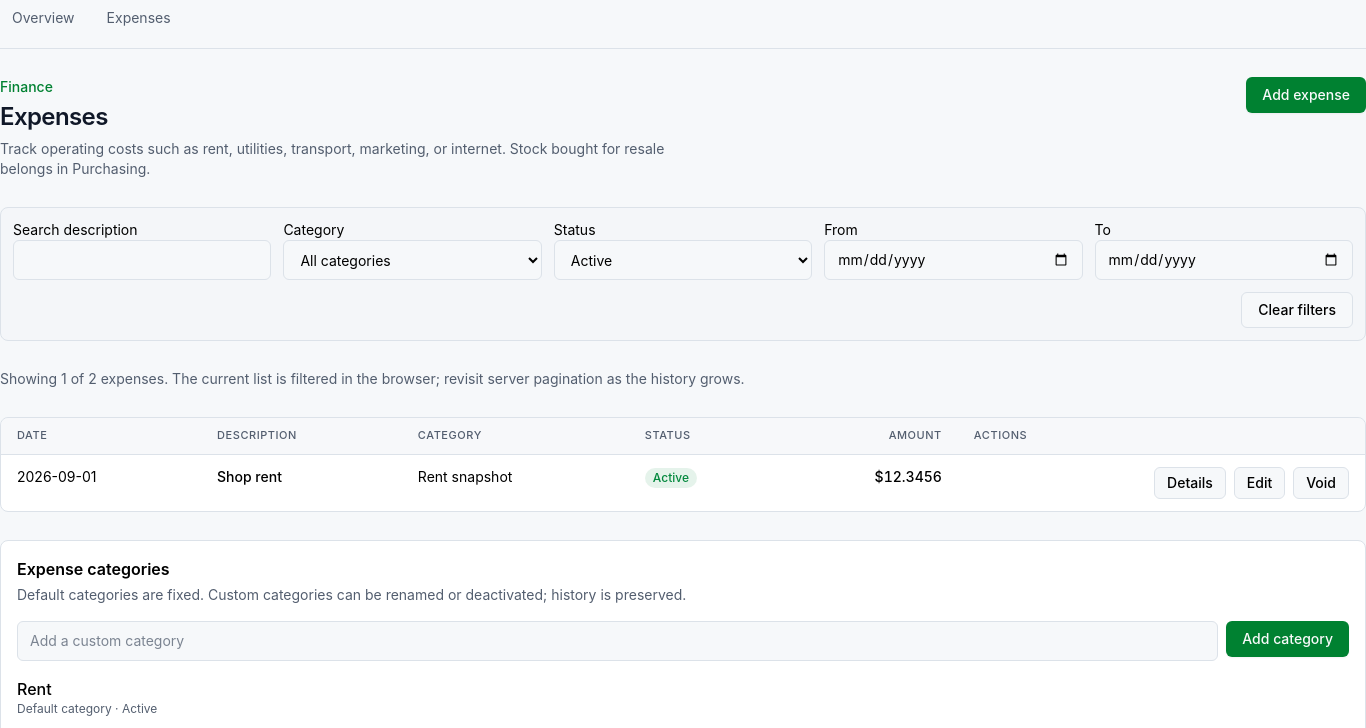
Test: Finance expense management › rejects invalid amount -1 at form validation
This screenshot has width=1366, height=728.
Click the button "Add expense" at (1306,95), box 1246,77 -> 1365,113
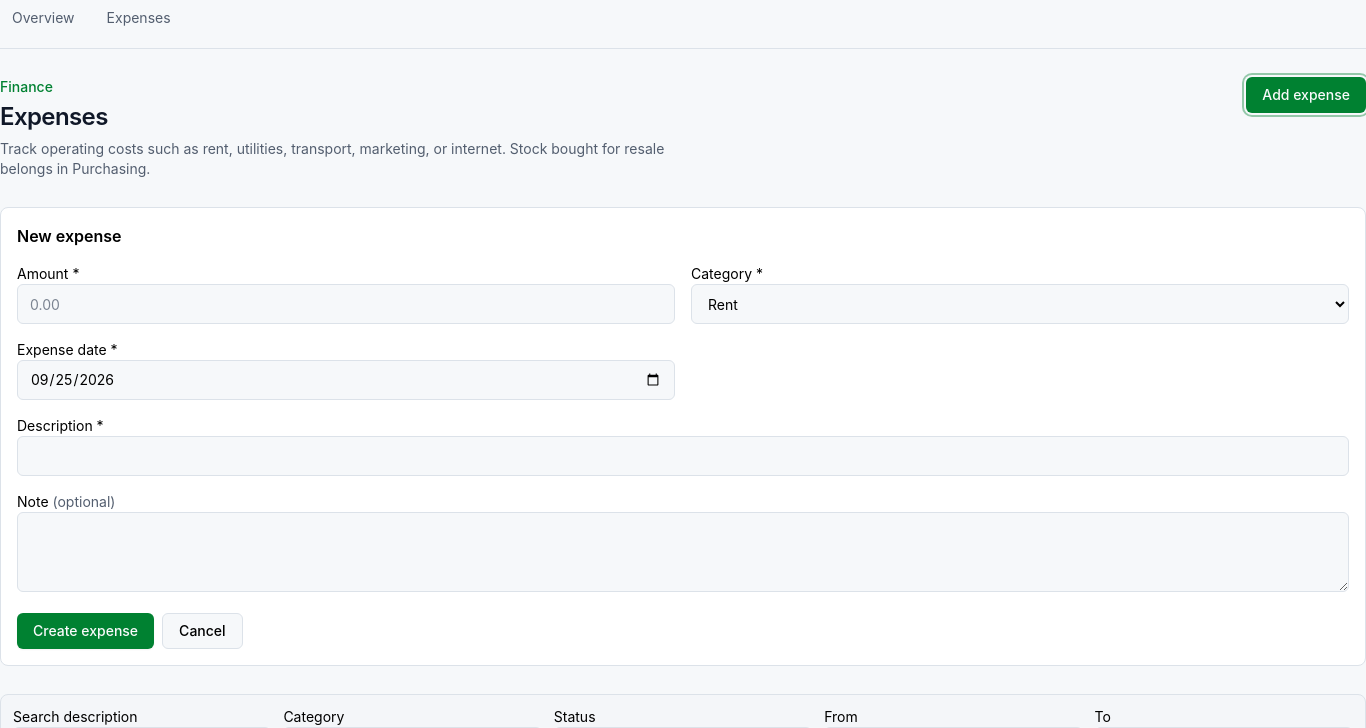
Type "-1" into the field labelled "Amount *" at (346,304), box 17,284 -> 675,324
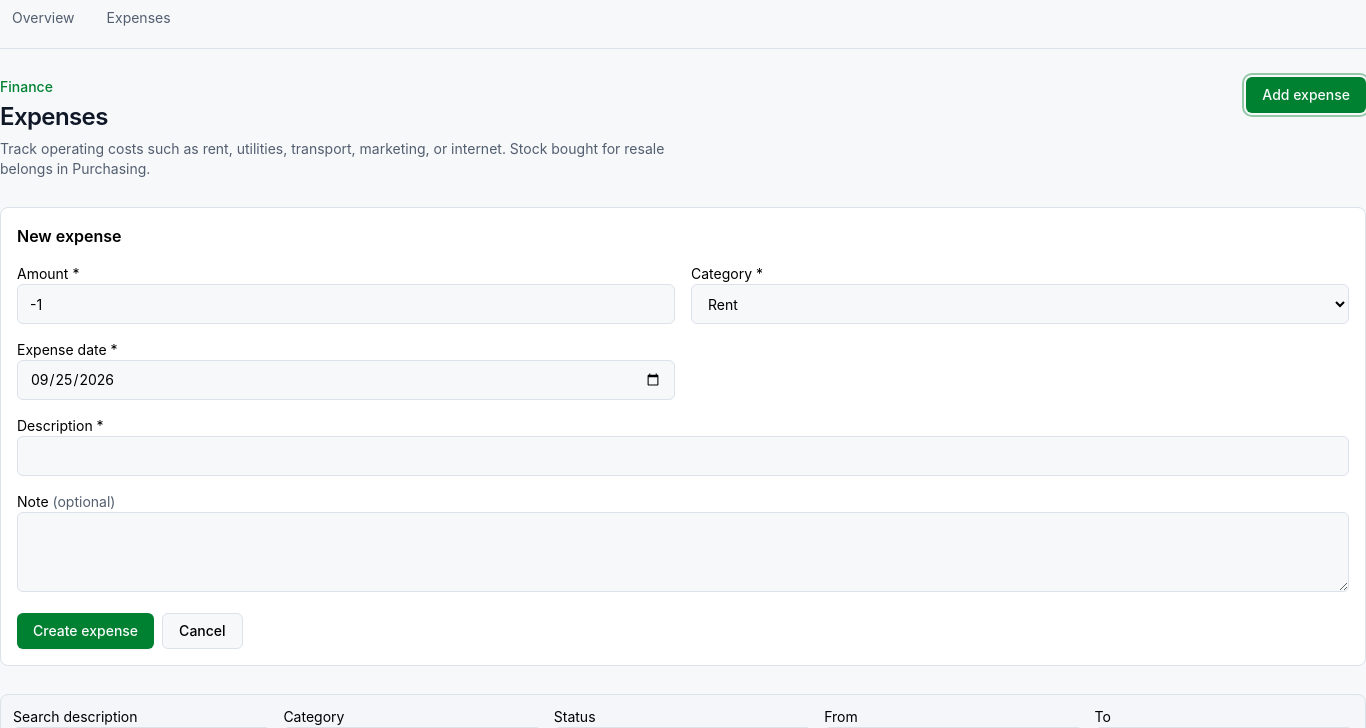
Click the button "Create expense" at (86,631), box 17,613 -> 154,649
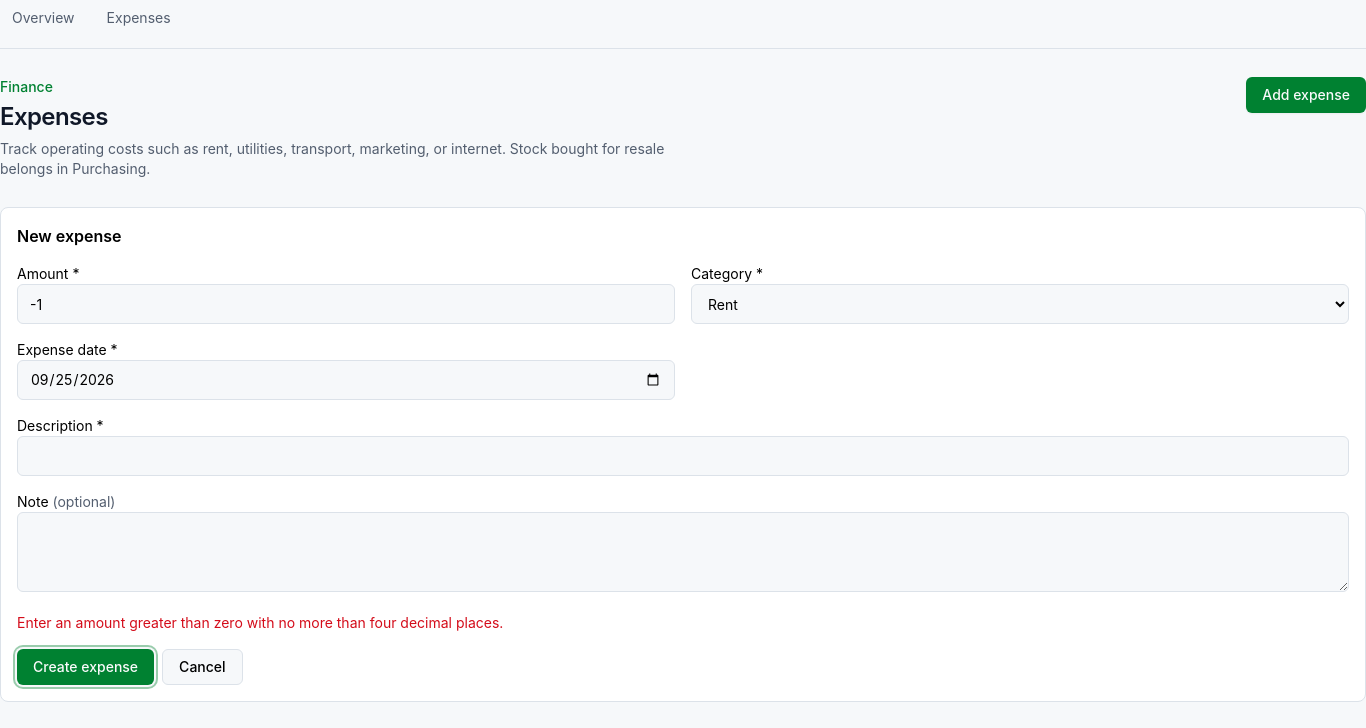
Check: the message shows "amount greater than zero", box 17,614 -> 503,631
